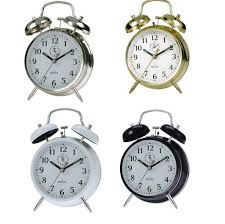alarm_clock: (10, 0, 192, 209), (10, 0, 188, 209), (25, 0, 188, 209), (62, 45, 192, 209), (102, 39, 115, 116), (62, 45, 75, 122), (27, 7, 39, 83)
